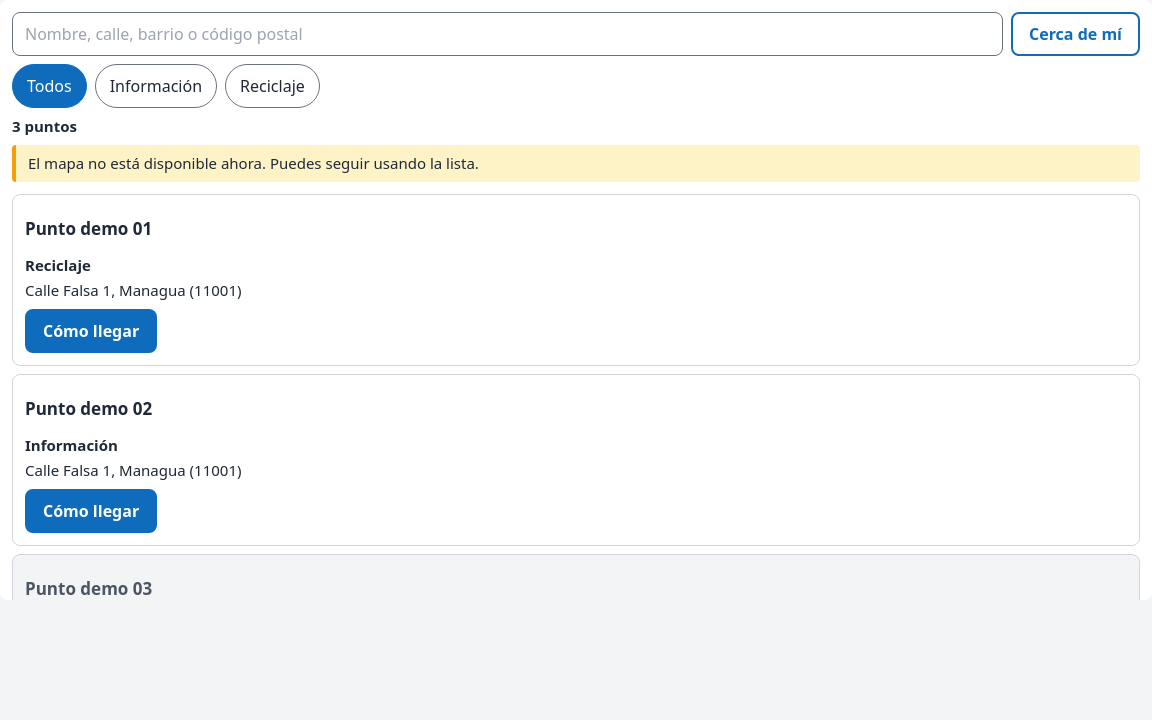
BuscadorPuntos con mapa › si el mapa lanza un error, el listado sigue plenamente usable y aparece un aviso discreto
Check: the text "El mapa no está disponible ahora. Puedes seguir usando la lista." is shown, box [12,145,1140,182]
Type "demo 02" into the search field at (508, 34), box [12,12,1003,56]
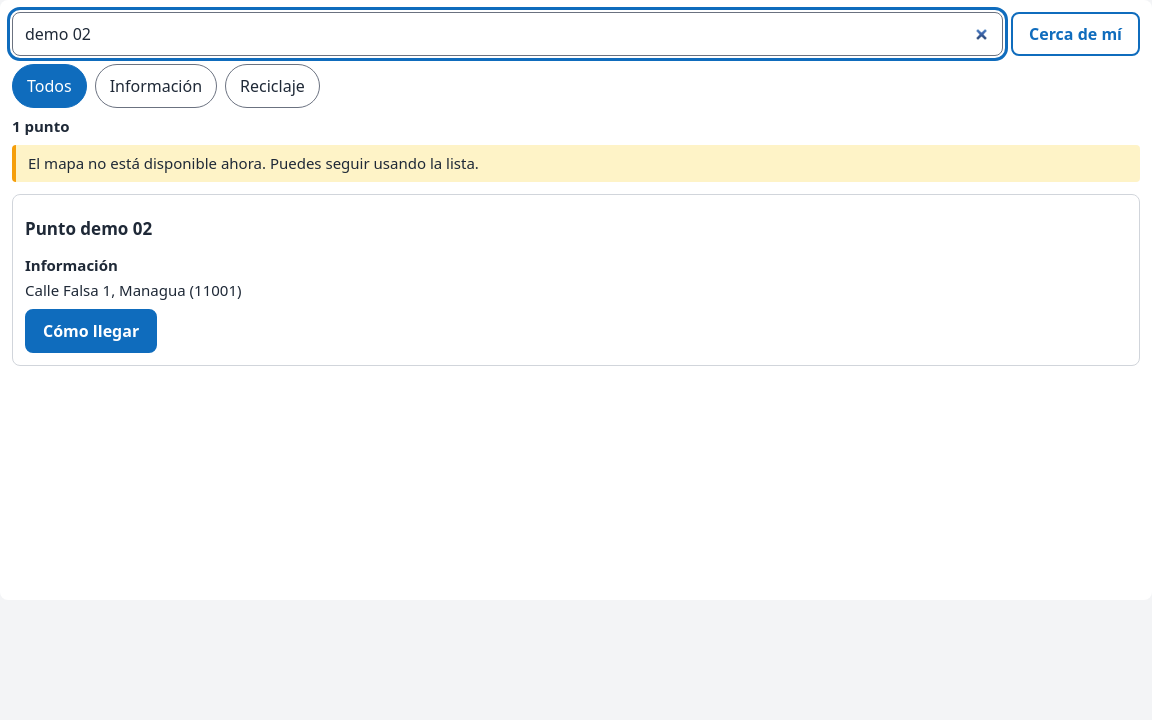
Check: the number of list items is 1, box [12,194,1140,366]
